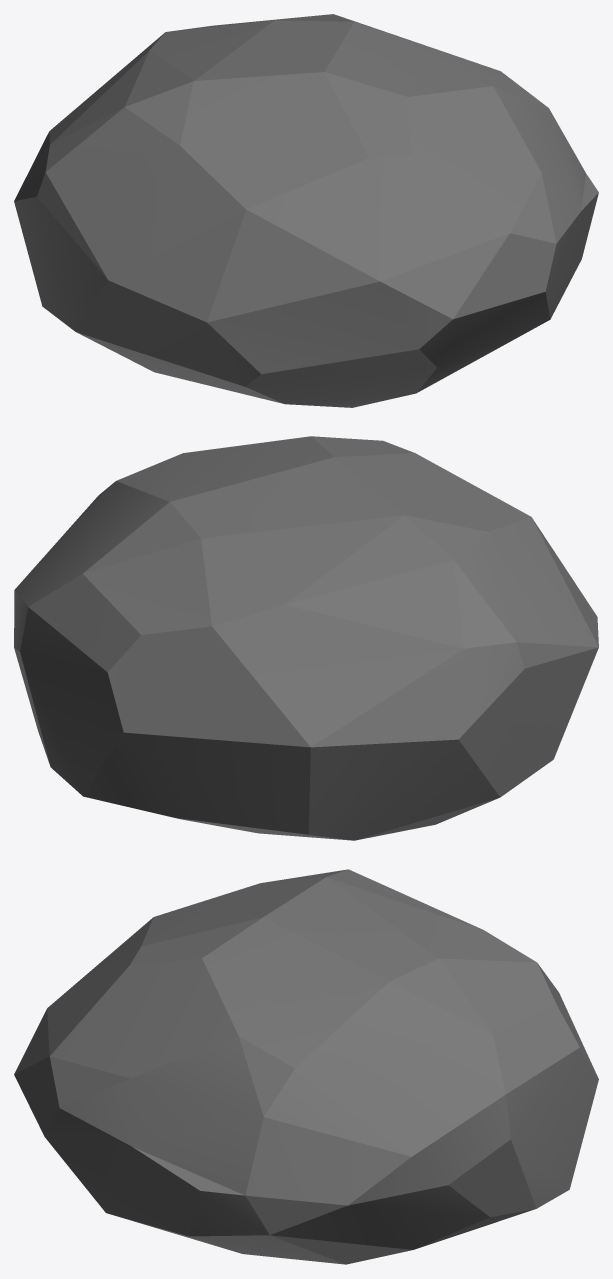
File: Rock_3.FBX
3 views of the same model, one above another, from view 1: azimuth 30°, elevation 25°; view 2: azimuth 150°, elevation 25°; view 3: azimuth 270°, elevation 25° (orthographic). The views are drawn at different scales.
Visible parts, largest first — view 1: Rock_3; view 2: Rock_3; view 3: Rock_3.
Boxes of the visible parts, box(x1,y1,x2,y2) form: Rock_3: box(14, 14, 598, 407); Rock_3: box(14, 436, 598, 840); Rock_3: box(14, 869, 598, 1264).
Size of the model in its own units: 323 by 199 by 337.
